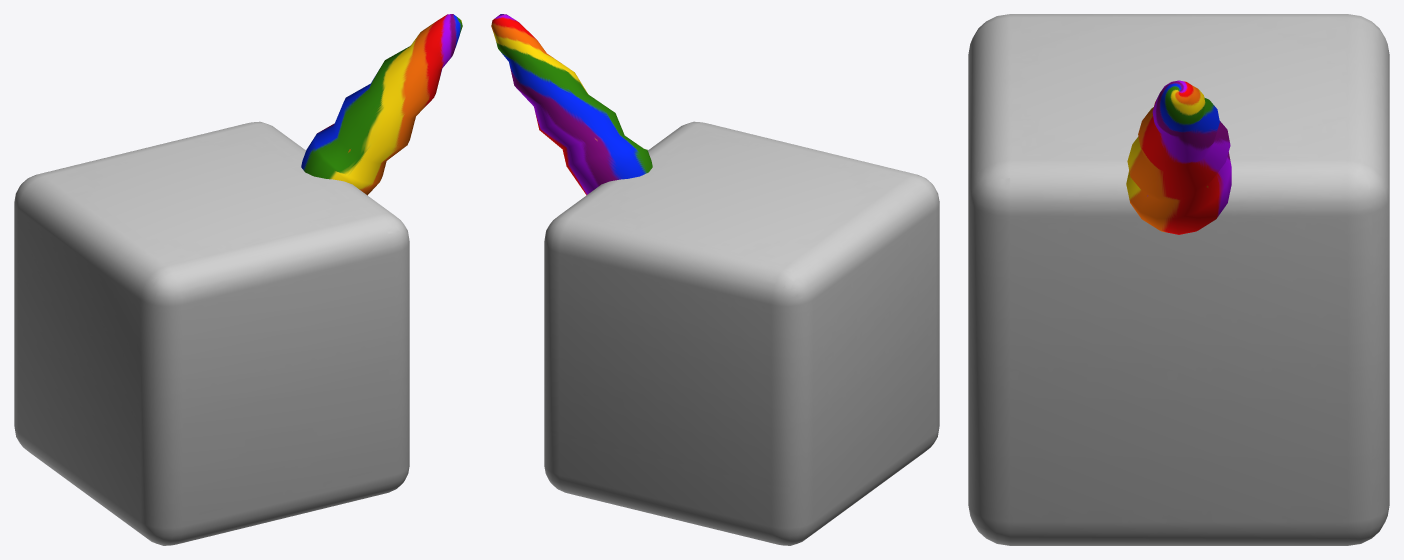
File: cube_unicorn.glb
The picture shows the model from 3 angles, left to right: view 1: azimuth 30°, elevation 25°; view 2: azimuth 150°, elevation 25°; view 3: azimuth 270°, elevation 25°; orthographic projection. The views are drawn at different scales.
Visible parts, largest first — view 1: cube_unicorn; view 2: cube_unicorn; view 3: cube_unicorn.
Part boxes in pixels (bbox=[...]): cube_unicorn: bbox=[14, 14, 462, 545]; cube_unicorn: bbox=[491, 14, 939, 545]; cube_unicorn: bbox=[968, 14, 1389, 545].
Size of the model in its own units: 2.88 by 2.88 by 2.
Materials: 2 (2 with a texture image).
